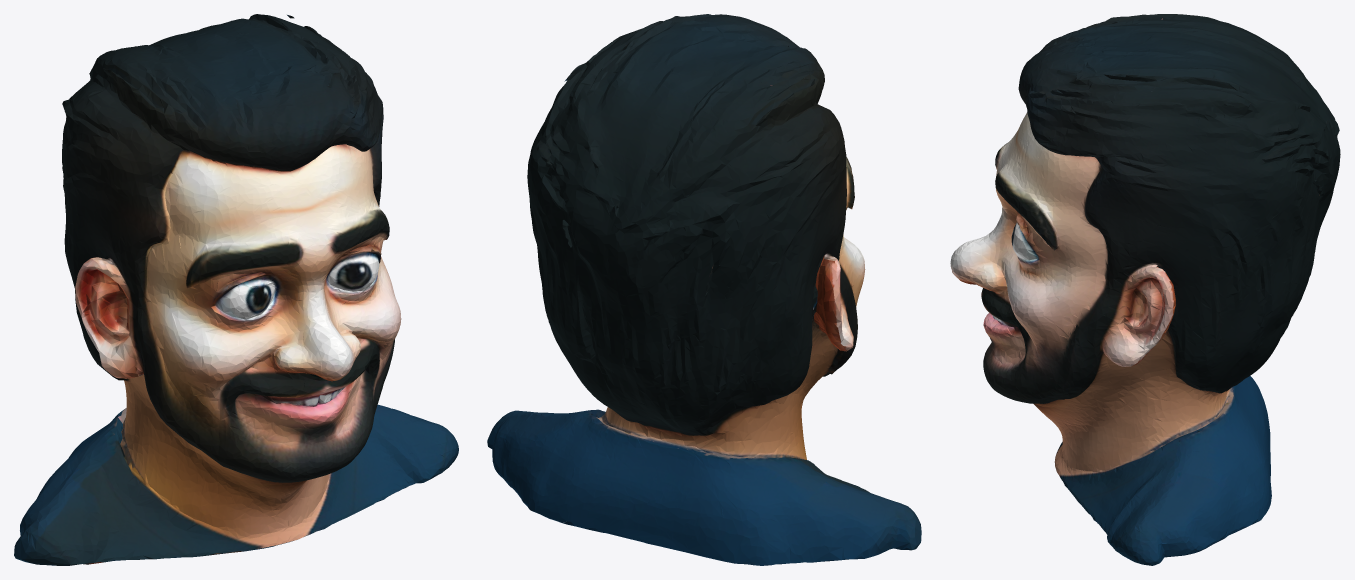
Rendered from h3t_portrait_0003.glb.
3 renders of one model, left to right at view 1: azimuth 30°, elevation 25°; view 2: azimuth 150°, elevation 25°; view 3: azimuth 270°, elevation 25°, orthographic. The views are drawn at different scales.
Parts seen in each view (by area): view 1: geometry_0; view 2: geometry_0; view 3: geometry_0.
Part boxes in pixels (x1,y1,x2,y2): geometry_0: [14, 14, 458, 565]; geometry_0: [487, 14, 921, 565]; geometry_0: [950, 14, 1340, 565].
Bounding box in the file's own units: 2 × 1.98 × 1.65.
Materials: 1 (1 with a texture image).
